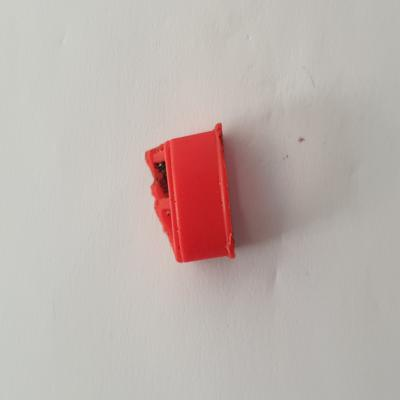plastic: (140, 114, 249, 273)
